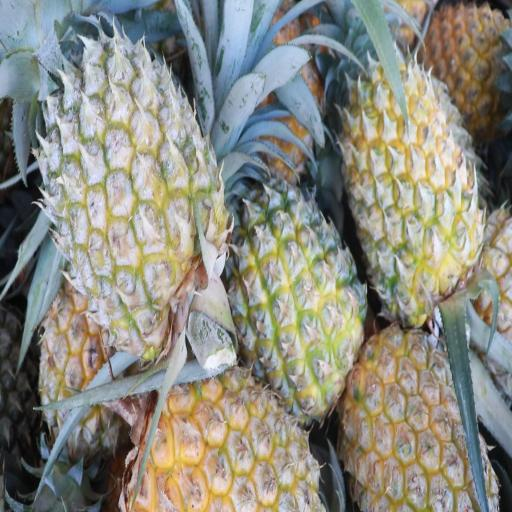------------------------------: (40, 36, 223, 336), (231, 182, 365, 419), (38, 297, 124, 450)
Pineapple - v8 v1: (345, 62, 478, 304), (133, 365, 325, 512), (352, 330, 497, 512), (422, 0, 512, 124)
